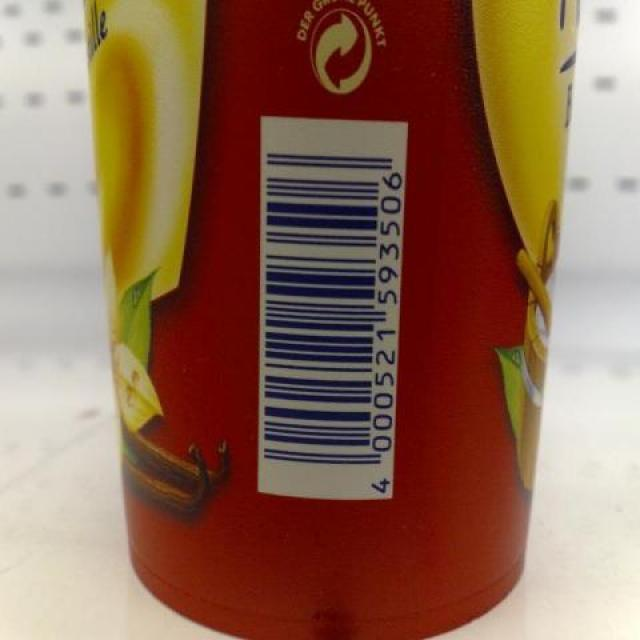Barcode: (259, 115, 408, 502)
